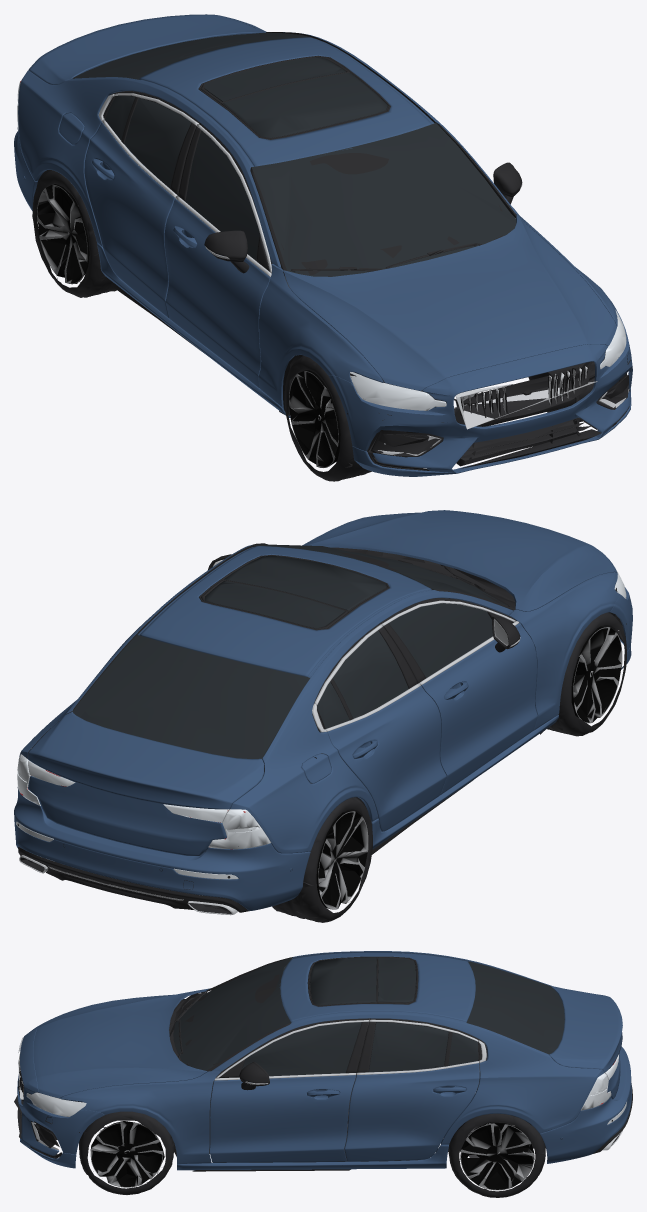
File: volvo.glb
3 views of the same model, one above another, from view 1: azimuth 30°, elevation 25°; view 2: azimuth 150°, elevation 25°; view 3: azimuth 270°, elevation 25° (orthographic). The views are drawn at different scales.
Parts seen in each view (by area): view 1: kaross, hjul_bkr, hjul_ftr; view 2: kaross, hjul_bkr, hjul_ftr; view 3: kaross, hjul_bkl, hjul_ftl.
Part boxes in pixels (x1,y1,x2,y2): kaross: (14,14,632,476); hjul_bkr: (32,170,116,297); hjul_ftr: (284,355,374,481); kaross: (14,510,632,915); hjul_bkr: (272,797,372,922); hjul_ftr: (547,612,626,736); kaross: (14,951,632,1171); hjul_bkl: (448,1113,545,1197); hjul_ftl: (79,1111,174,1194).
Size of the model in its own units: 2 by 1.48 by 4.79.
